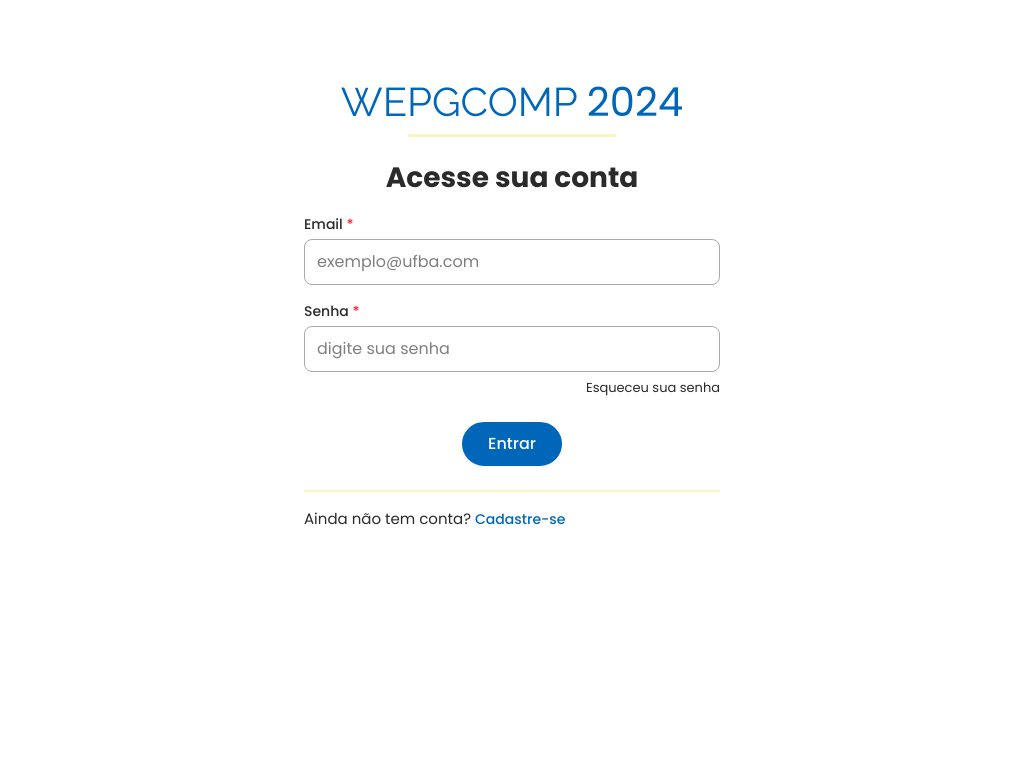
Test case: LoginPage › forgot password modal › opens modal on click
Click the button "Esqueceu sua senha" at (653, 388), box [586,378,720,398]
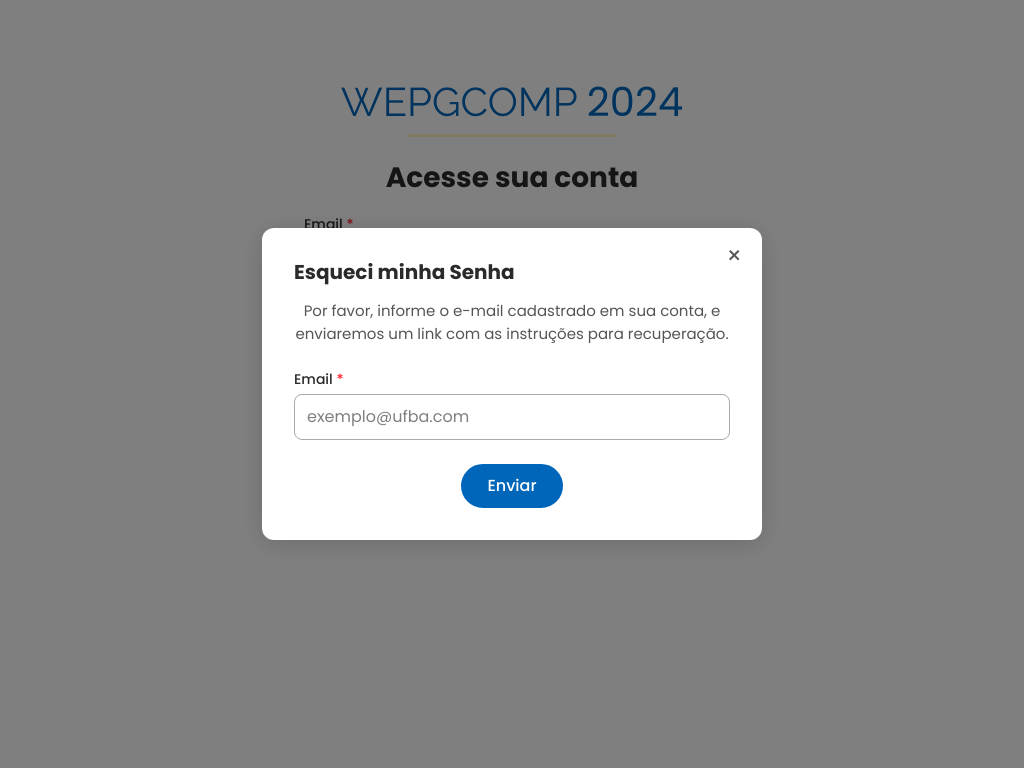
Expected: the heading "Esqueci minha Senha" is shown, [294,258,515,286]
